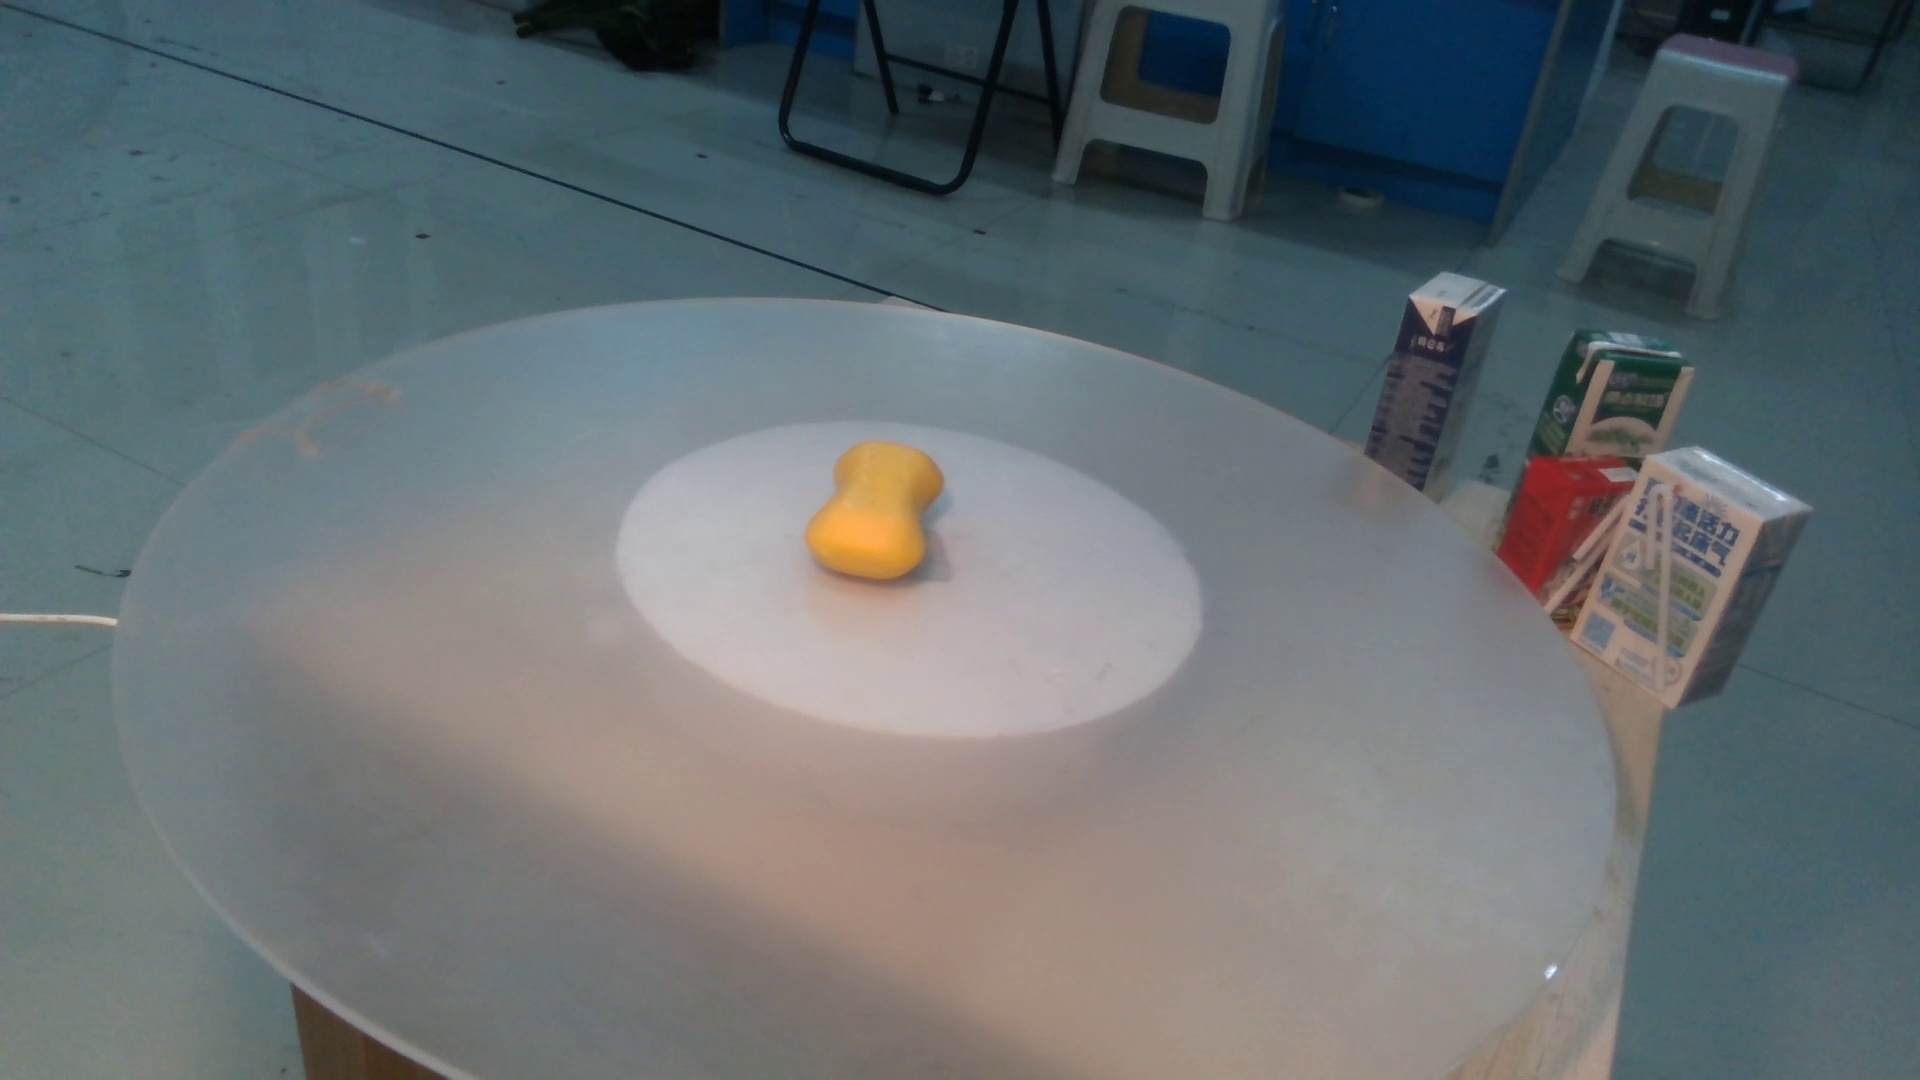CA003_1: (789, 429, 969, 605)
